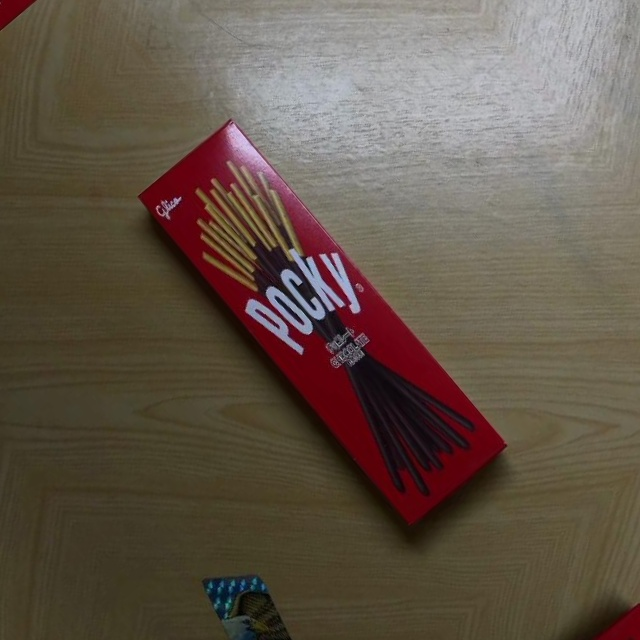Pocky: (137, 117, 507, 525)
